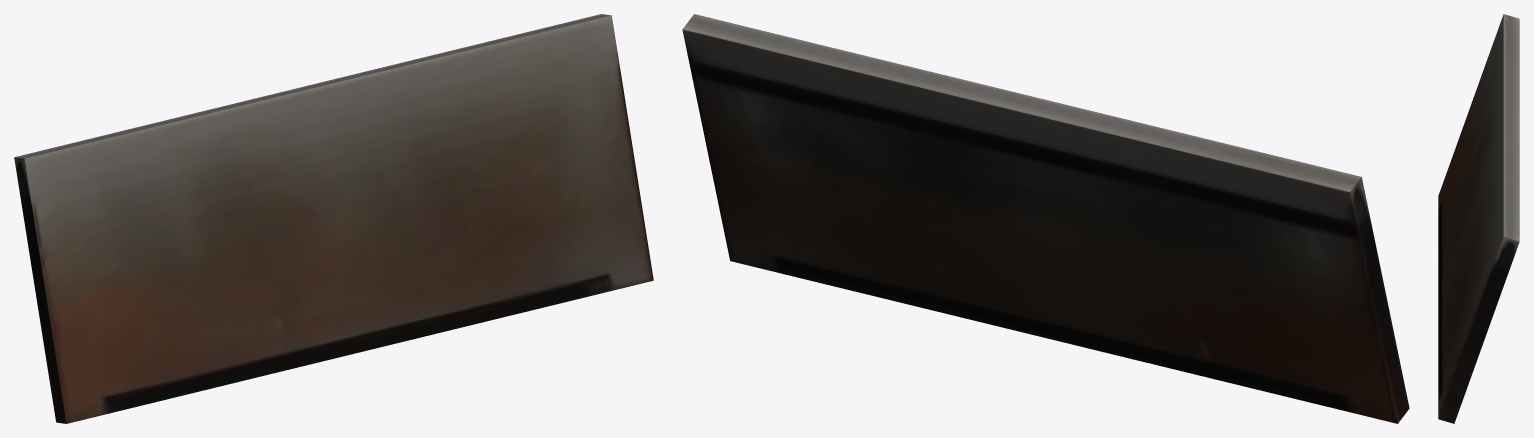
Rendered from body__control_deck.glb.
3 views of the same model, side by side, from view 1: azimuth 30°, elevation 25°; view 2: azimuth 150°, elevation 25°; view 3: azimuth 270°, elevation 25° (orthographic). The views are drawn at different scales.
Parts seen in each view (by area): view 1: geometry_0; view 2: geometry_0; view 3: geometry_0.
Boxes of the visible parts, x1,y1,x2,y2 form: geometry_0: (14, 14, 653, 423); geometry_0: (682, 14, 1409, 423); geometry_0: (1438, 14, 1519, 423).
Bounding box in the file's own units: 0.748 × 0.2927 × 0.1155.
1 material, 1 textured.
